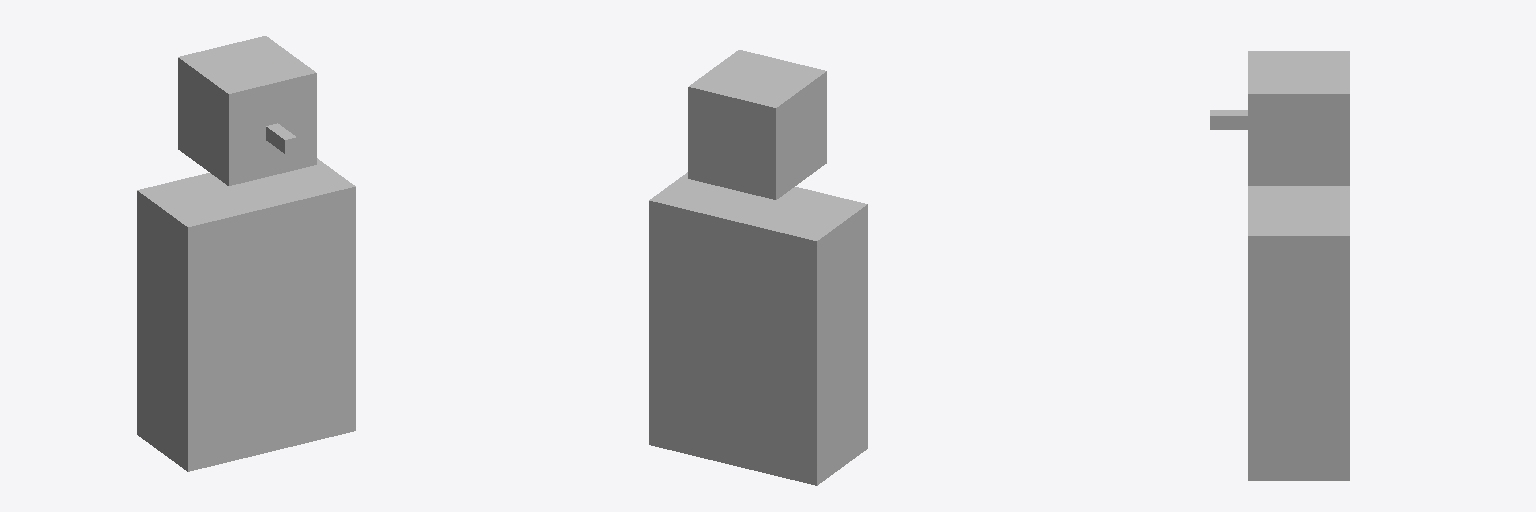
File: player.obj
The picture shows the model from 3 angles: view 1: azimuth 30°, elevation 25°; view 2: azimuth 150°, elevation 25°; view 3: azimuth 270°, elevation 25°; orthographic projection.
Visible parts, largest first — view 1: 立方体, Cube, 立方体.003; view 2: 立方体, Cube; view 3: 立方体, Cube, 立方体.003.
Boxes of the visible parts, <box> form: 立方体: <box>137,158,355,471</box>; Cube: <box>178,36,316,185</box>; 立方体.003: <box>266,123,296,153</box>; 立方体: <box>649,172,867,485</box>; Cube: <box>688,50,826,199</box>; 立方体: <box>1248,186,1349,480</box>; Cube: <box>1248,51,1349,185</box>; 立方体.003: <box>1210,110,1247,129</box>.
Bounding box in the file's own units: 3.82 × 7.98 × 2.75.